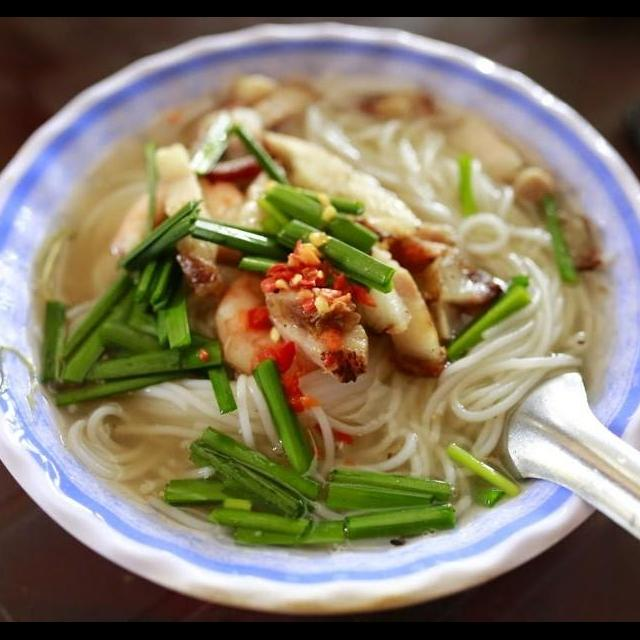bun: (48, 318, 592, 528), (374, 107, 604, 426)
